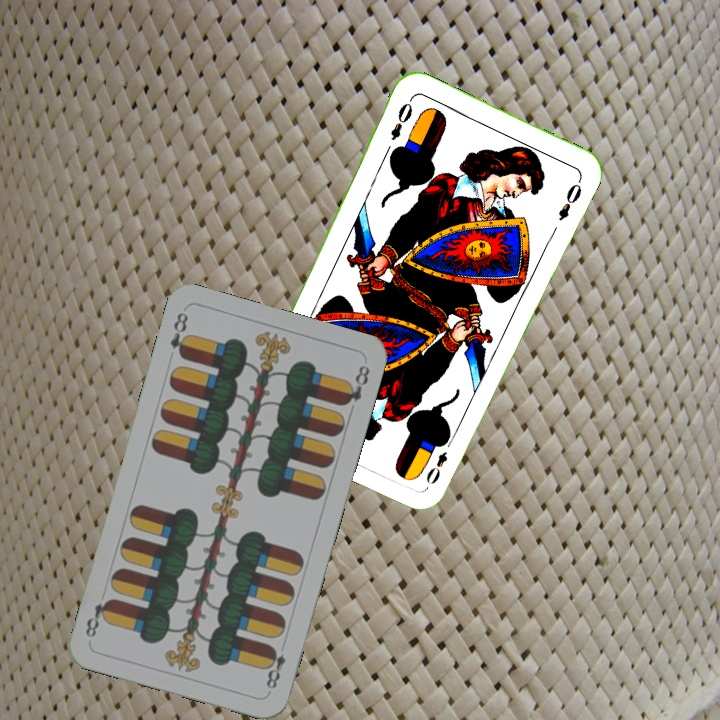E8: (166, 308, 193, 362), (261, 642, 288, 692)
EO: (422, 433, 457, 487), (386, 94, 416, 143)
